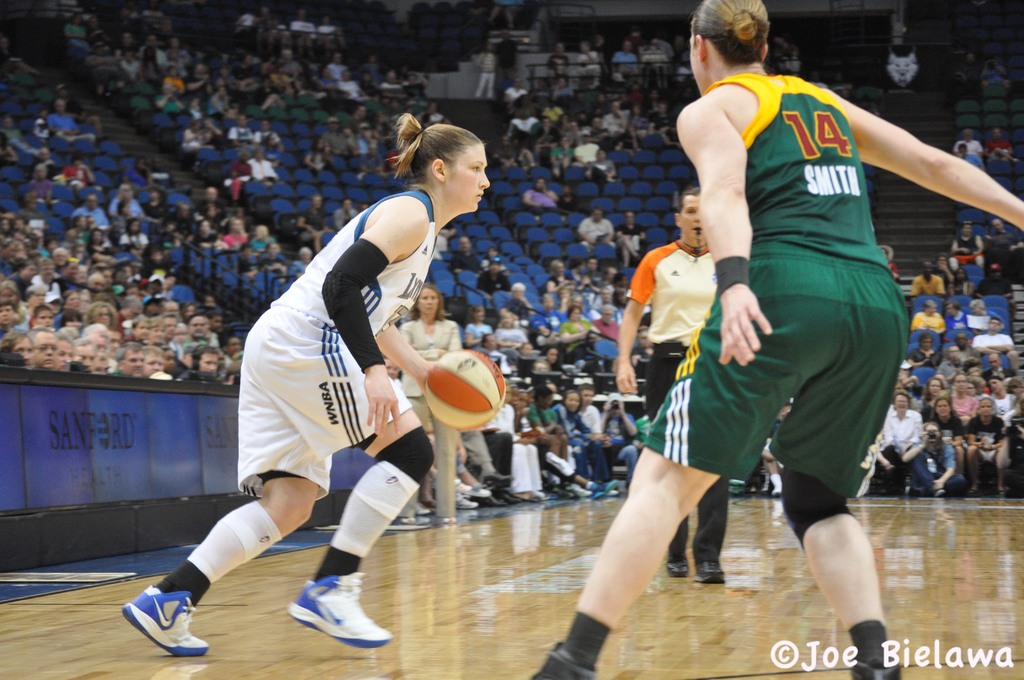Ball: (426, 348, 509, 430)
